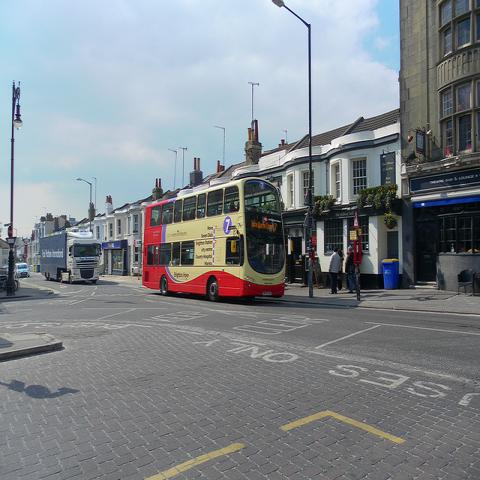bus: (141, 178, 282, 305)
car: (14, 262, 30, 278), (1, 265, 8, 275)
truck: (34, 228, 106, 290)
